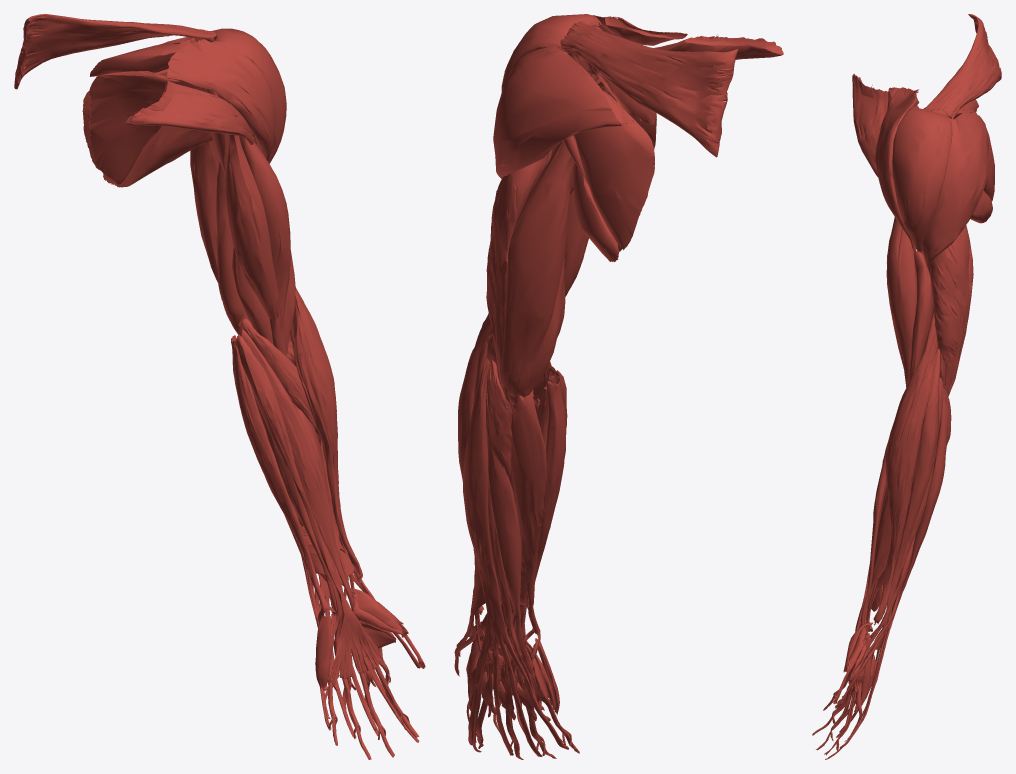
The model's file is muscular.upper_limb_left.glb.
3 renders of one model, left to right at view 1: azimuth 30°, elevation 25°; view 2: azimuth 150°, elevation 25°; view 3: azimuth 270°, elevation 25°, orthographic. The views are drawn at different scales.
Parts seen in each view (by area): view 1: left_subscapularis, clavicular_part_of_left_deltoid, left_palmaris_longus, short_head_of_left_biceps_brachii, transverse_part_of_left_trapezius, left_brachioradialis, left_flexor_carpi_radialis, clavicular_part_of_left_pectoralis_major, long_head_of_left_biceps_brachii, humeral_head_of_left_flexor_carpi_ulnaris, left_flexor_digitorum_superficialis, long_head_of_left_triceps_brachii (+10 smaller); view 2: long_head_of_left_triceps_brachii, transverse_part_of_left_trapezius, spinal_part_of_left_deltoid, left_extensor_digitorum, left_infraspinatus, ulnar_head_of_left_flexor_carpi_ulnaris, lateral_head_of_left_triceps_brachii, left_extensor_carpi_ulnaris, humeral_head_of_left_flexor_carpi_ulnaris, left_anconeus, acromial_part_of_left_deltoid, clavicular_part_of_left_pectoralis_major (+10 smaller); view 3: acromial_part_of_left_deltoid, left_brachioradialis, spinal_part_of_left_deltoid, lateral_head_of_left_triceps_brachii, long_head_of_left_biceps_brachii, transverse_part_of_left_trapezius, left_extensor_carpi_radialis_longus, clavicular_part_of_left_deltoid, left_extensor_digitorum, clavicular_part_of_left_pectoralis_major, left_brachialis, left_flexor_digitorum_superficialis (+11 smaller).
Boxes of the visible parts, x1,y1,x2,y2 form: left_subscapularis: (88,71,205,184); clavicular_part_of_left_deltoid: (166,37,275,160); left_palmaris_longus: (236,334,384,683); short_head_of_left_biceps_brachii: (225,99,279,320); transverse_part_of_left_trapezius: (14,14,216,89); left_brachioradialis: (290,287,362,583); left_flexor_carpi_radialis: (242,329,354,611); clavicular_part_of_left_pectoralis_major: (125,81,255,144); long_head_of_left_biceps_brachii: (239,136,290,357); humeral_head_of_left_flexor_carpi_ulnaris: (231,335,335,623); left_flexor_digitorum_superficialis: (233,336,409,739); long_head_of_left_triceps_brachii: (190,140,219,282); long_head_of_left_triceps_brachii: (500,141,574,397); transverse_part_of_left_trapezius: (560,22,738,157); spinal_part_of_left_deltoid: (493,43,634,178); left_extensor_digitorum: (462,358,568,756); left_infraspinatus: (559,46,654,248); ulnar_head_of_left_flexor_carpi_ulnaris: (511,392,546,606); lateral_head_of_left_triceps_brachii: (486,149,552,396); left_extensor_carpi_ulnaris: (487,362,533,671); humeral_head_of_left_flexor_carpi_ulnaris: (523,381,566,659); left_anconeus: (486,360,512,476); acromial_part_of_left_deltoid: (501,14,601,91); clavicular_part_of_left_pectoralis_major: (596,34,783,89); acromial_part_of_left_deltoid: (892,105,952,252); left_brachioradialis: (873,306,937,625); spinal_part_of_left_deltoid: (922,112,988,266); lateral_head_of_left_triceps_brachii: (929,227,972,396); long_head_of_left_biceps_brachii: (886,219,916,387); transverse_part_of_left_trapezius: (925,14,1001,118); left_extensor_carpi_radialis_longus: (875,349,940,650); clavicular_part_of_left_deltoid: (875,87,919,247); left_extensor_digitorum: (836,395,947,748); clavicular_part_of_left_pectoralis_major: (852,74,888,177); left_brachialis: (909,246,933,379); left_flexor_digitorum_superficialis: (830,487,891,750).
Bounding box in the file's own units: 0.3232 × 0.7166 × 0.1976.
